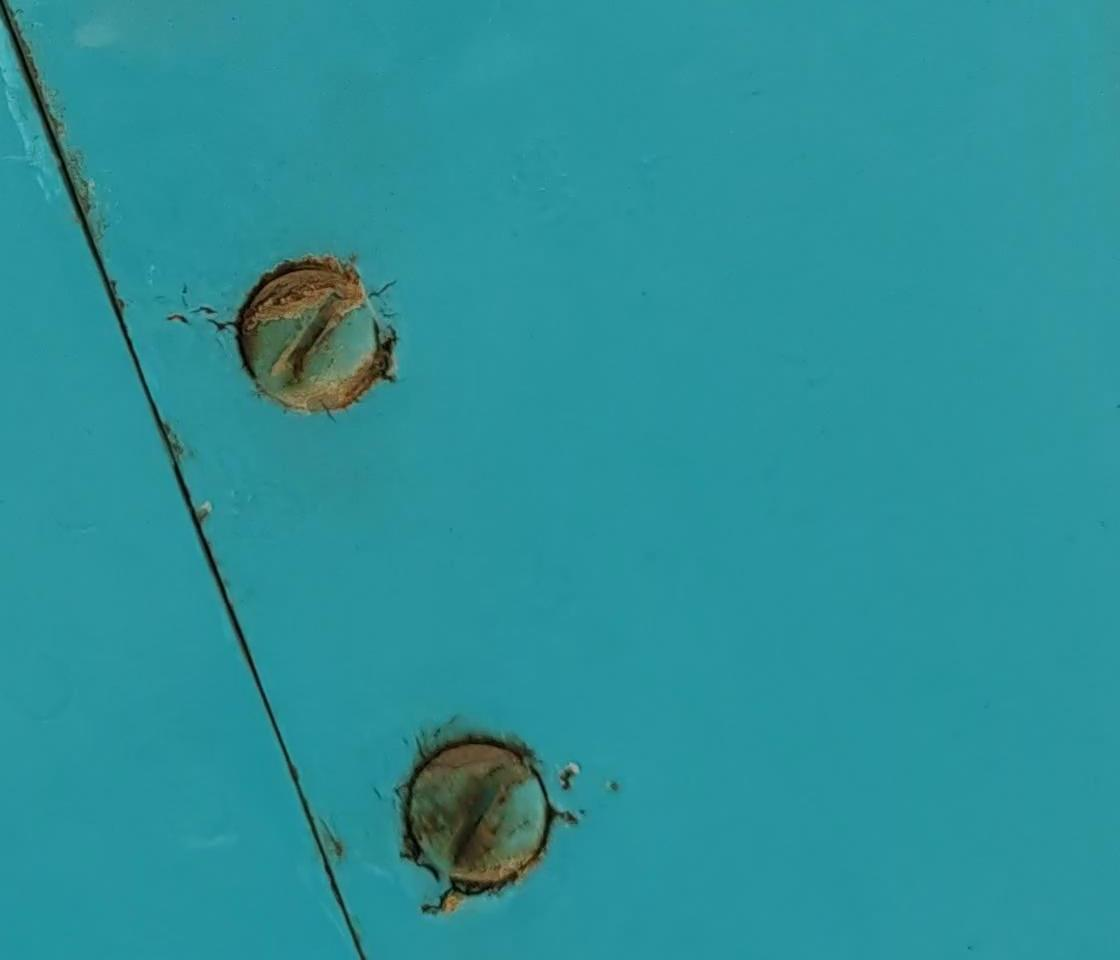rivet_damage: (381, 728, 581, 905), (223, 254, 399, 420)
